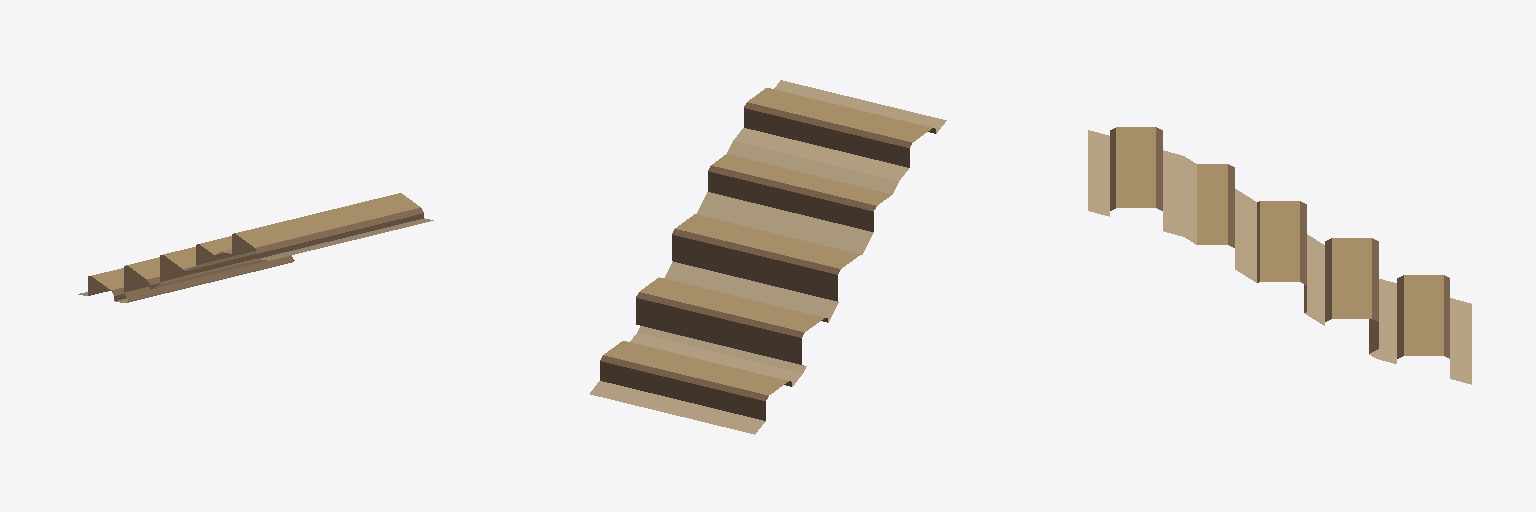
File: Hilly_Terrain_Path_Hill_Sharp_Steps_Center.obj
3 renders of one model, left to right at view 1: azimuth 30°, elevation 25°; view 2: azimuth 150°, elevation 25°; view 3: azimuth 270°, elevation 25°, orthographic.
Parts seen in each view (by area): view 1: object1; view 2: object1; view 3: object1.
Boxes of the visible parts, x1,y1,x2,y2 form: object1: [78, 193, 433, 302]; object1: [590, 80, 946, 434]; object1: [1088, 127, 1471, 384].
Bounding box in the file's own units: 1 × 1.02 × 2.